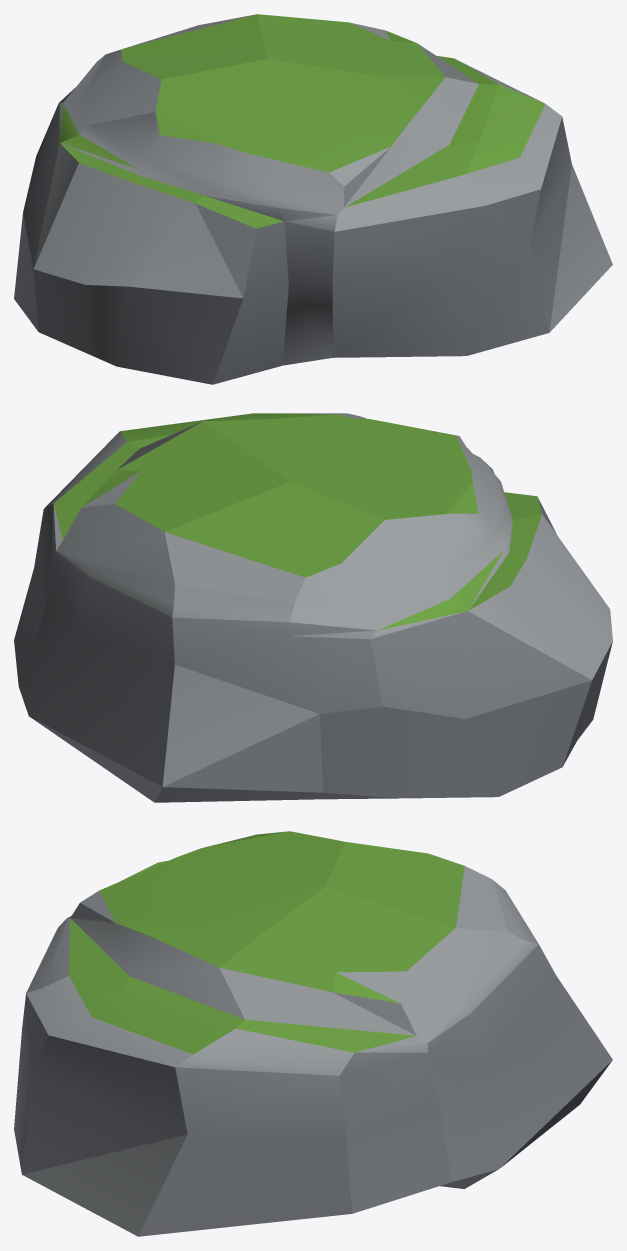
Rendered from boulder-1.glb.
3 renders of one model, top to bottom at view 1: azimuth 30°, elevation 25°; view 2: azimuth 150°, elevation 25°; view 3: azimuth 270°, elevation 25°, orthographic. The views are drawn at different scales.
Visible parts, largest first — view 1: boulder-1; view 2: boulder-1; view 3: boulder-1.
Part boxes in pixels (x1,y1,x2,y2): boulder-1: [14, 14, 612, 384]; boulder-1: [14, 413, 612, 802]; boulder-1: [14, 831, 612, 1236].
Bounding box in the file's own units: 2 × 0.8574 × 1.91.
